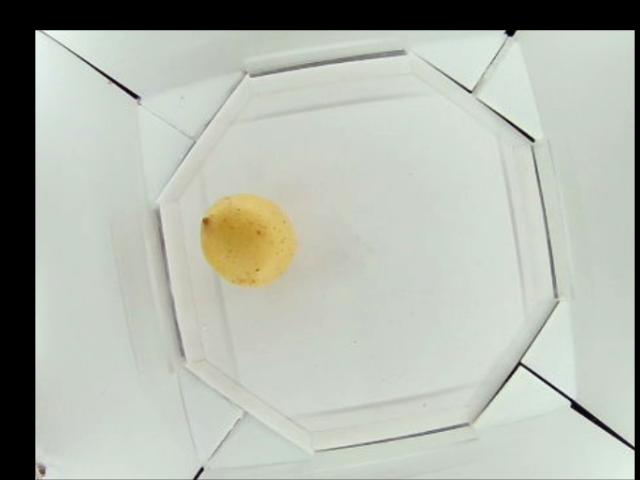Potato: (200, 193, 292, 287)
